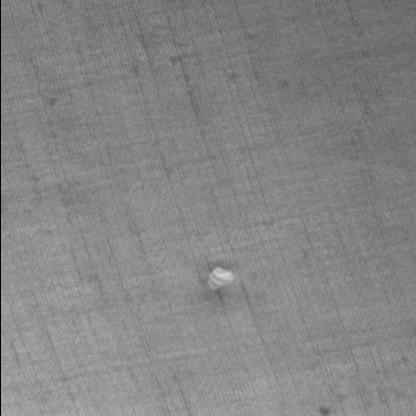objects: (203, 265, 238, 291)
